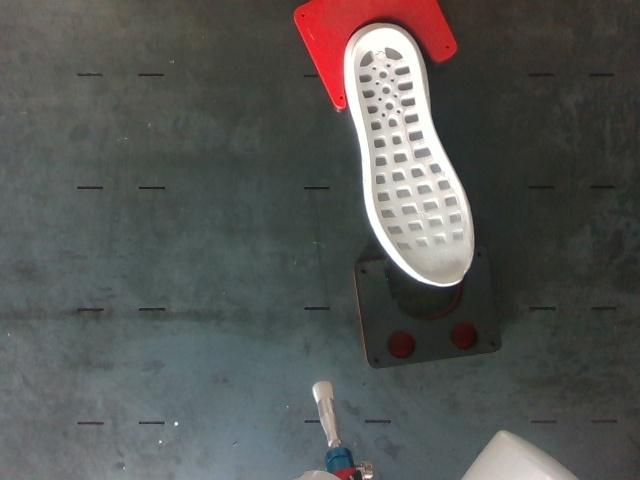shoes: (354, 29, 471, 284)
